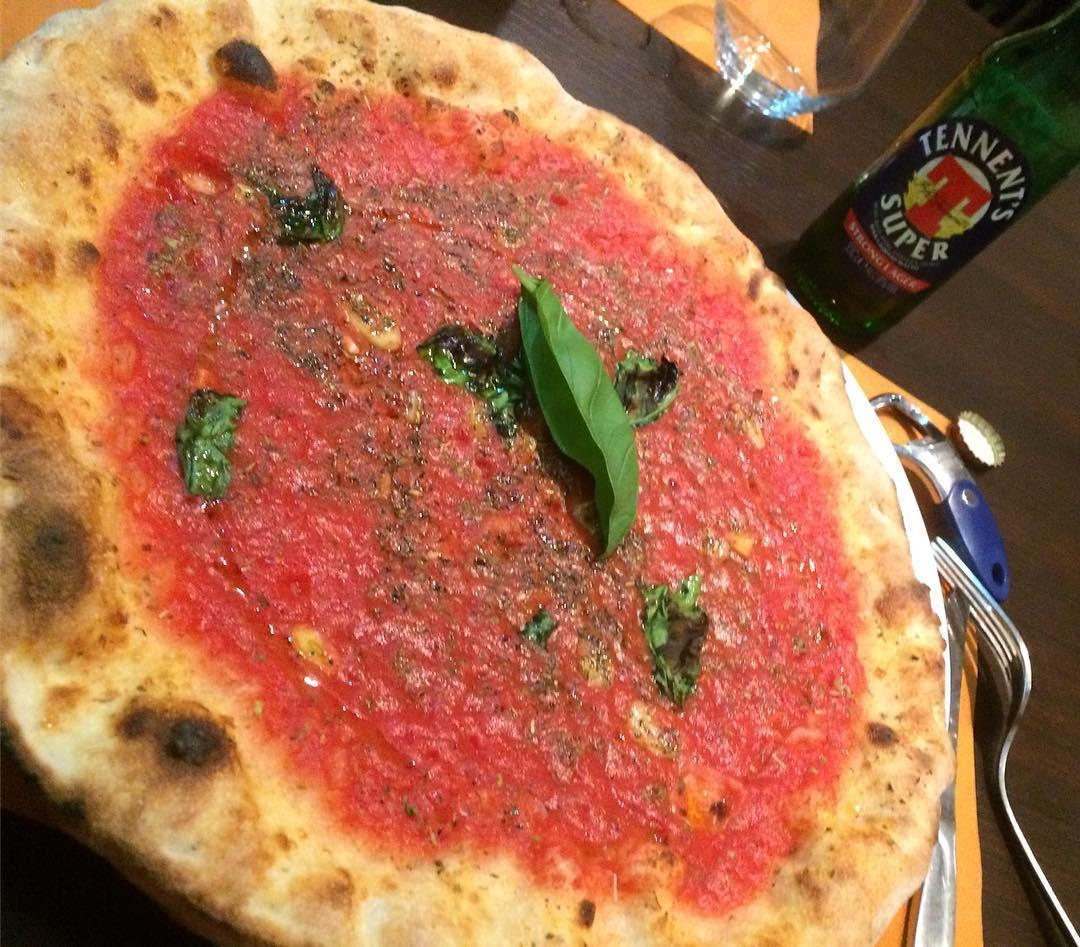Basil: (506, 265, 676, 568), (636, 572, 714, 709), (416, 314, 506, 427), (173, 382, 244, 499), (266, 162, 348, 241)
Pizza: (0, 0, 954, 947)
